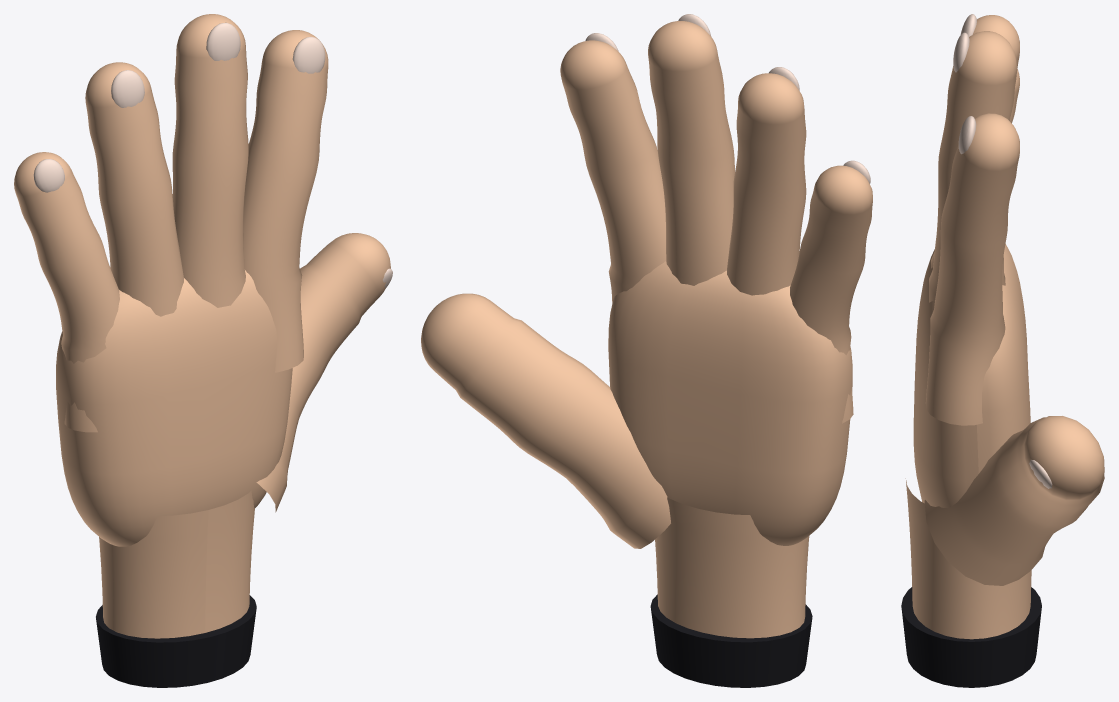
Rendered from hand-left-five.glb.
The picture shows the model from 3 angles, left to right: view 1: azimuth 30°, elevation 25°; view 2: azimuth 150°, elevation 25°; view 3: azimuth 270°, elevation 25°; orthographic projection. The views are drawn at different scales.
Parts seen in each view (by area): view 1: hand-left-five; view 2: hand-left-five; view 3: hand-left-five.
Part boxes in pixels (left/top/right/bottom): hand-left-five: left=14, top=14, right=392, bottom=687; hand-left-five: left=421, top=14, right=872, bottom=687; hand-left-five: left=901, top=14, right=1104, bottom=687.
Bounding box in the file's own units: 0.1419 × 0.2103 × 0.0604.
